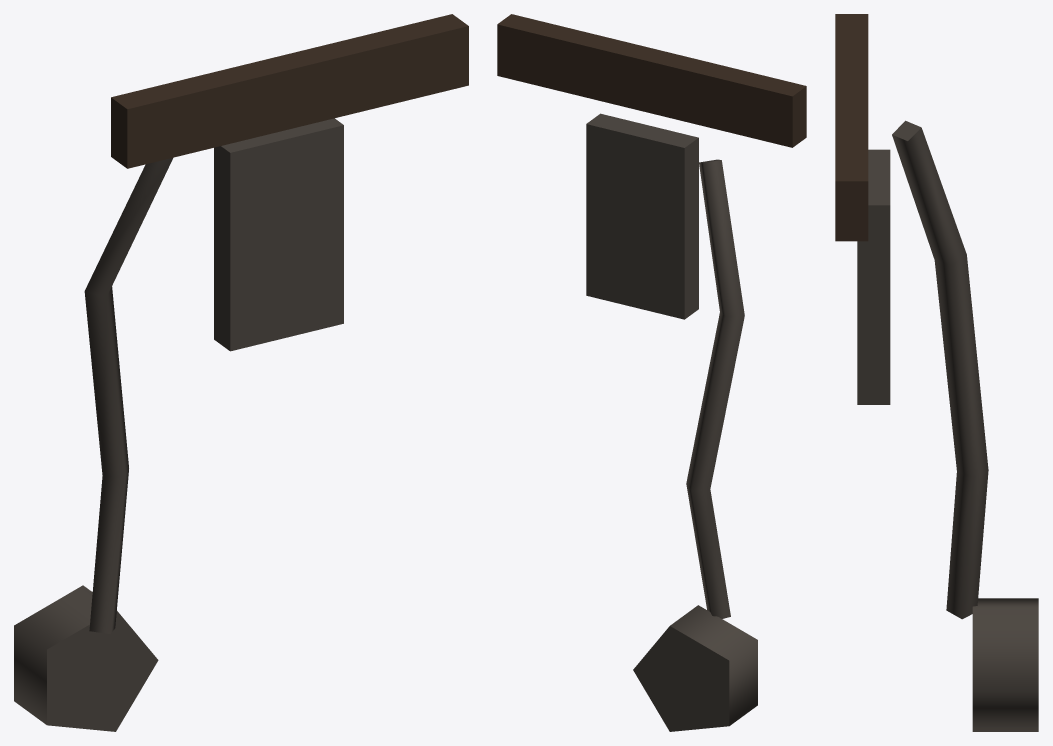
3 renders of one model, left to right at view 1: azimuth 30°, elevation 25°; view 2: azimuth 150°, elevation 25°; view 3: azimuth 270°, elevation 25°, orthographic. The views are drawn at different scales.
Visible parts, largest first — view 1: raider_gear_shackles; view 2: raider_gear_shackles; view 3: raider_gear_shackles.
Boxes of the visible parts, left/top/right/bottom form: raider_gear_shackles: left=14, top=14, right=468, bottom=731; raider_gear_shackles: left=497, top=14, right=806, bottom=731; raider_gear_shackles: left=835, top=14, right=1038, bottom=731.
Bounding box in the file's own units: 0.3726 × 0.6918 × 0.185.
